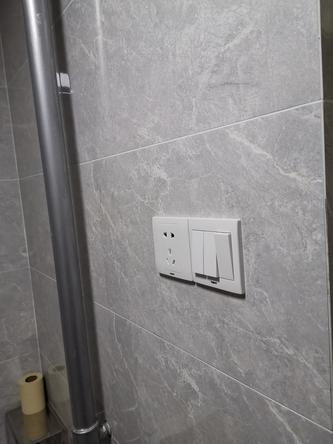switch: (203, 233, 221, 282), (219, 233, 236, 282), (191, 233, 202, 276)
